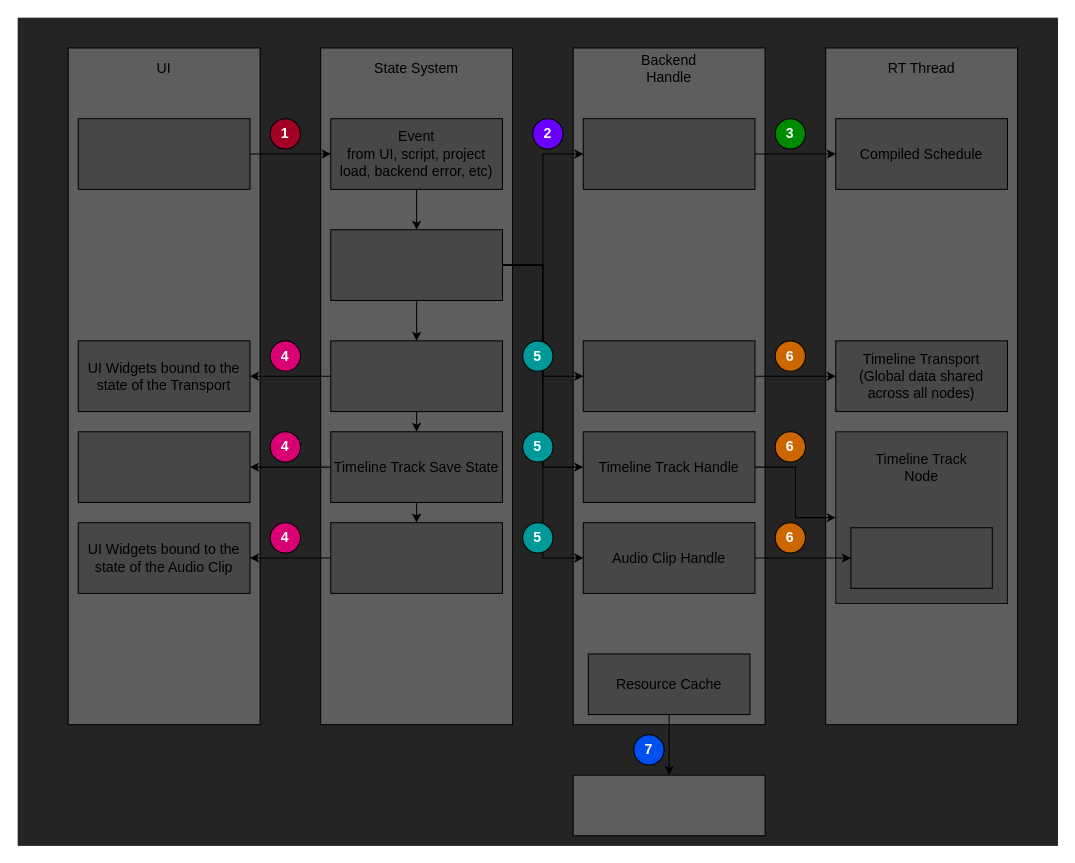
This 1075x863 diagram has some shape labels left out. The shapes that lost their labels are listed below. From the top down, each one's centre as x and y in pixels, then its label:
At (163,153): "UI Element or script triggers event".
At (668,153): "Audio Graph Handle".
At (416,264): "Dispatch Event (Mutate save states and call methods on the handles)".
At (416,376): "Timeline Transport Save State".
At (668,376): "Timeline Transport Handle".
At (163,466): "UI Widgets bound to the state of the Timeline Track".
At (416,557): "Audio Clip Save State".
At (921,557): "Audio Clip Data".
At (668,805): "Collector Thread".
